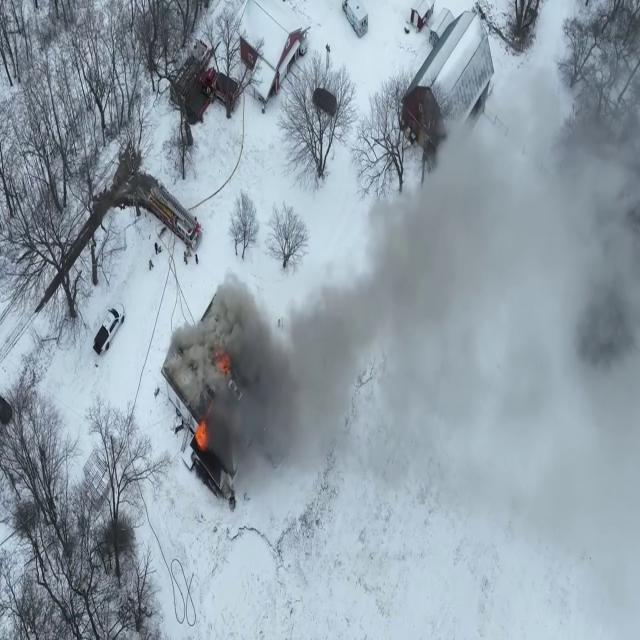Smoke: (180, 4, 640, 614)
